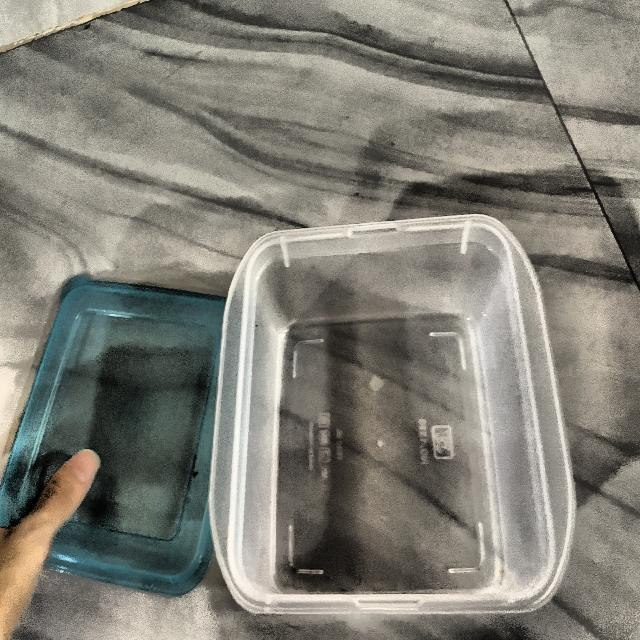plastic container: (184, 213, 586, 625)
